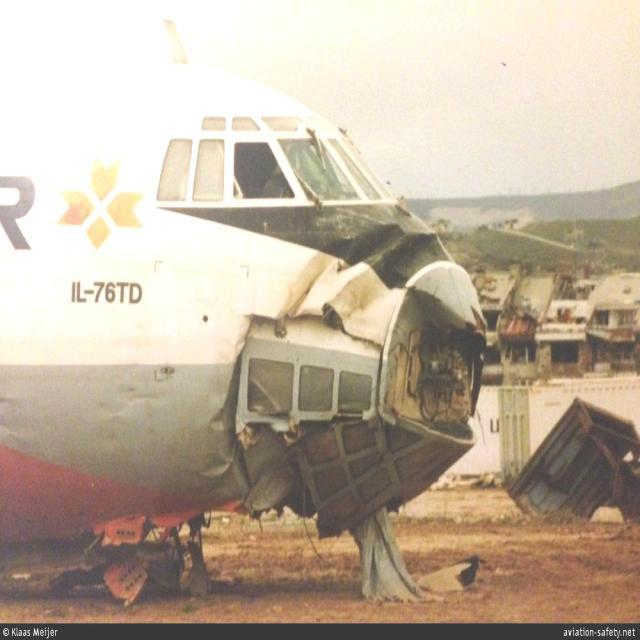dent: (196, 457, 235, 479), (210, 409, 230, 429)
